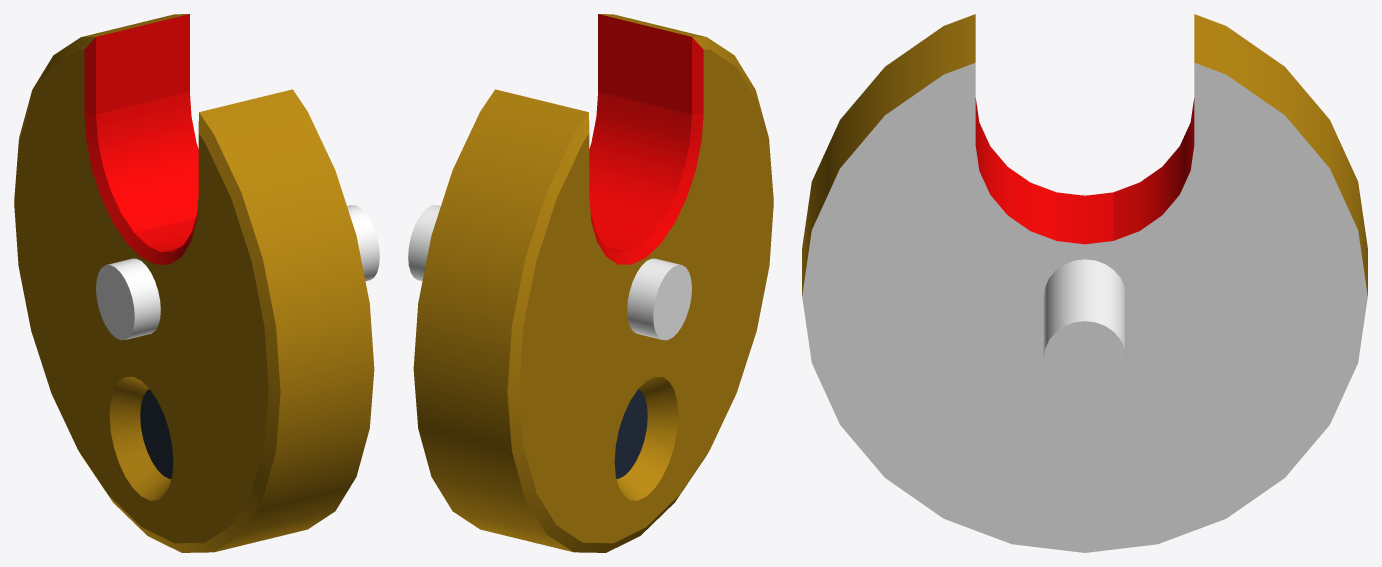
Rendered from spinner.fbx.
3 views of the same model, side by side, from view 1: azimuth 30°, elevation 25°; view 2: azimuth 150°, elevation 25°; view 3: azimuth 270°, elevation 25° (orthographic). The views are drawn at different scales.
Parts seen in each view (by area): view 1: Group1, Group2; view 2: Group1, Group2; view 3: Group1, Group2.
Boxes of the visible parts, <box> form: Group1: <box>14,14,374,552</box>; Group2: <box>96,205,379,340</box>; Group1: <box>413,14,773,552</box>; Group2: <box>408,205,691,340</box>; Group1: <box>802,14,1367,552</box>; Group2: <box>1043,194,1126,395</box>.
Bounding box in the file's own units: 162 × 292 × 305.
